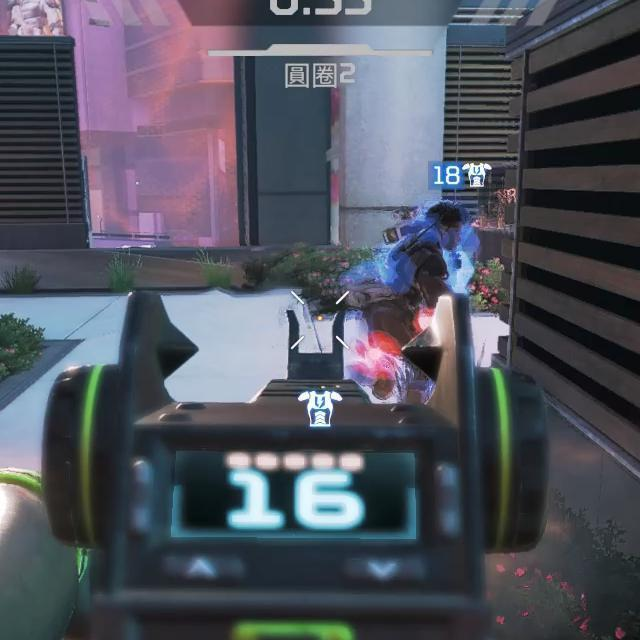avatar: (354, 199, 467, 402)
